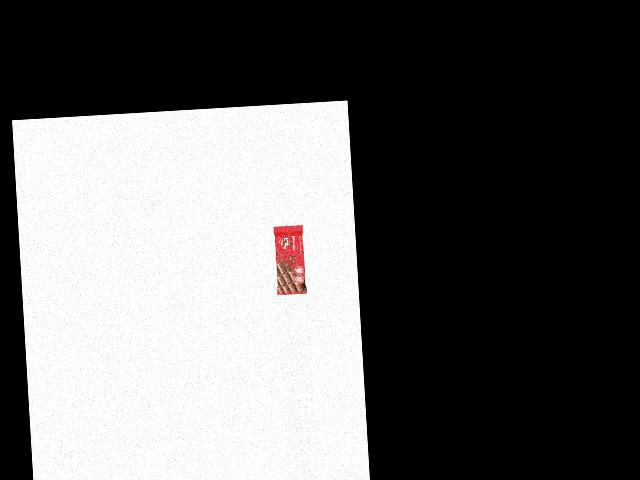chocolate: (273, 223, 307, 295)
